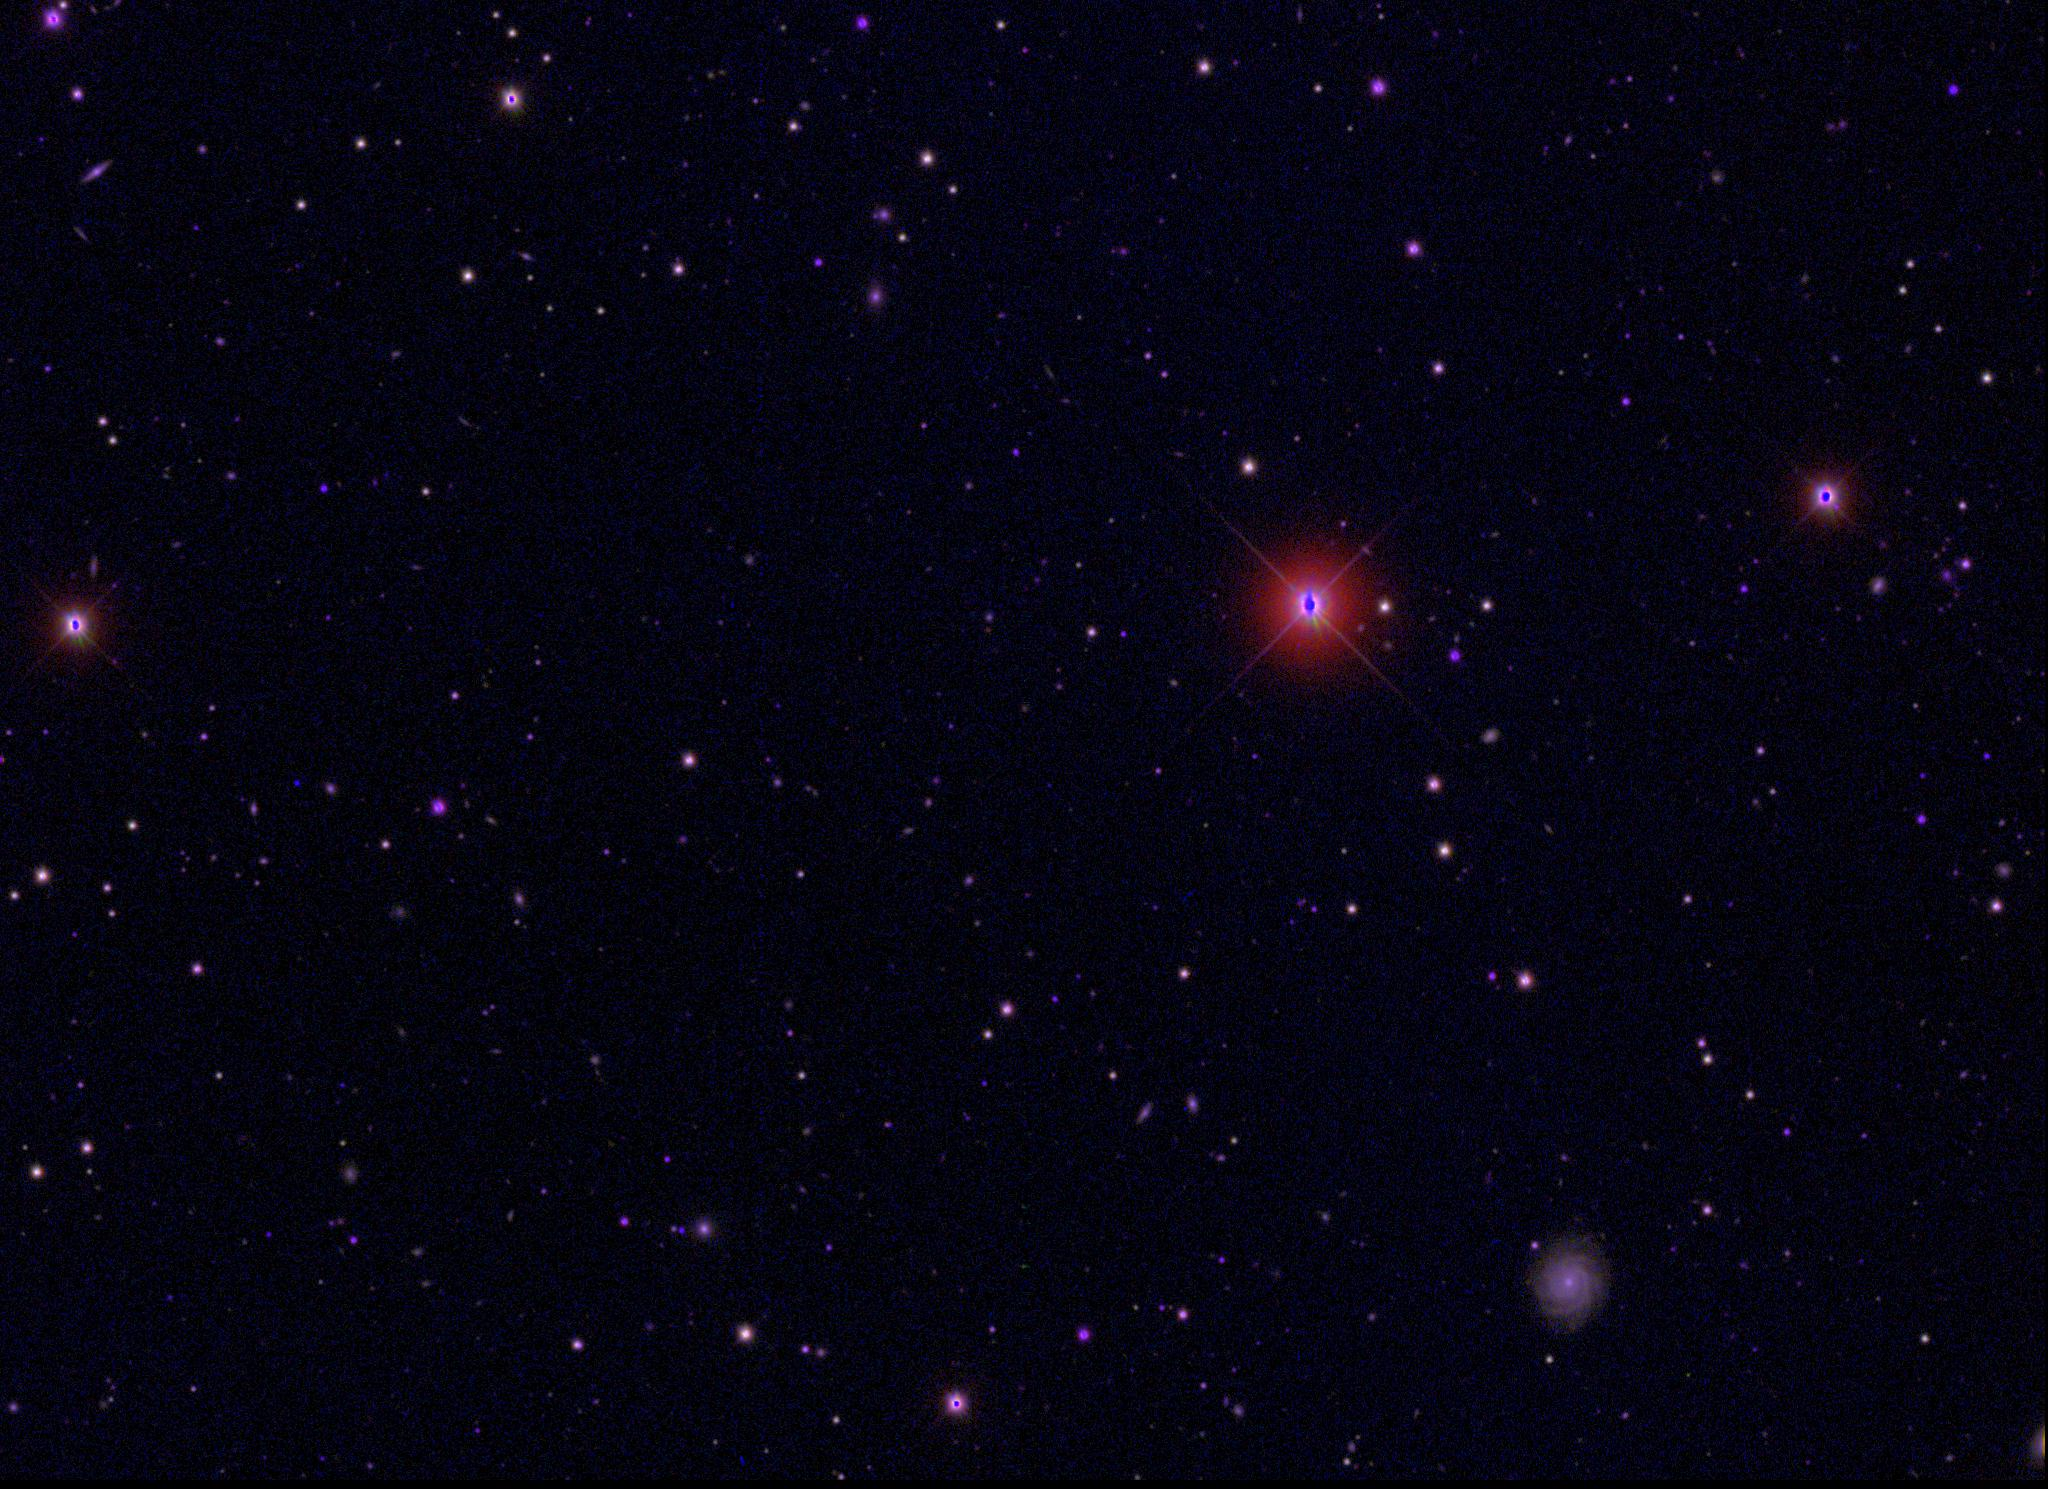L: (289, 776, 304, 791)
